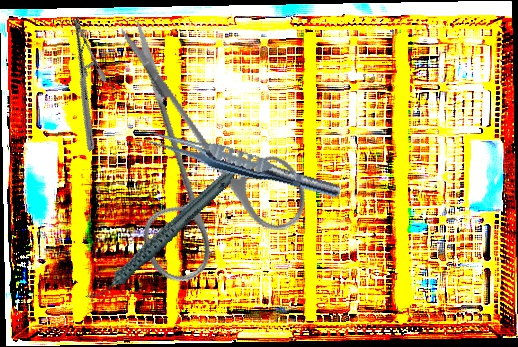Handpiece: (64, 164, 262, 305)
Iris Scissors: (48, 15, 346, 315)
Needle Holder: (20, 16, 147, 152)
Tissue Forceps: (138, 123, 344, 204)
